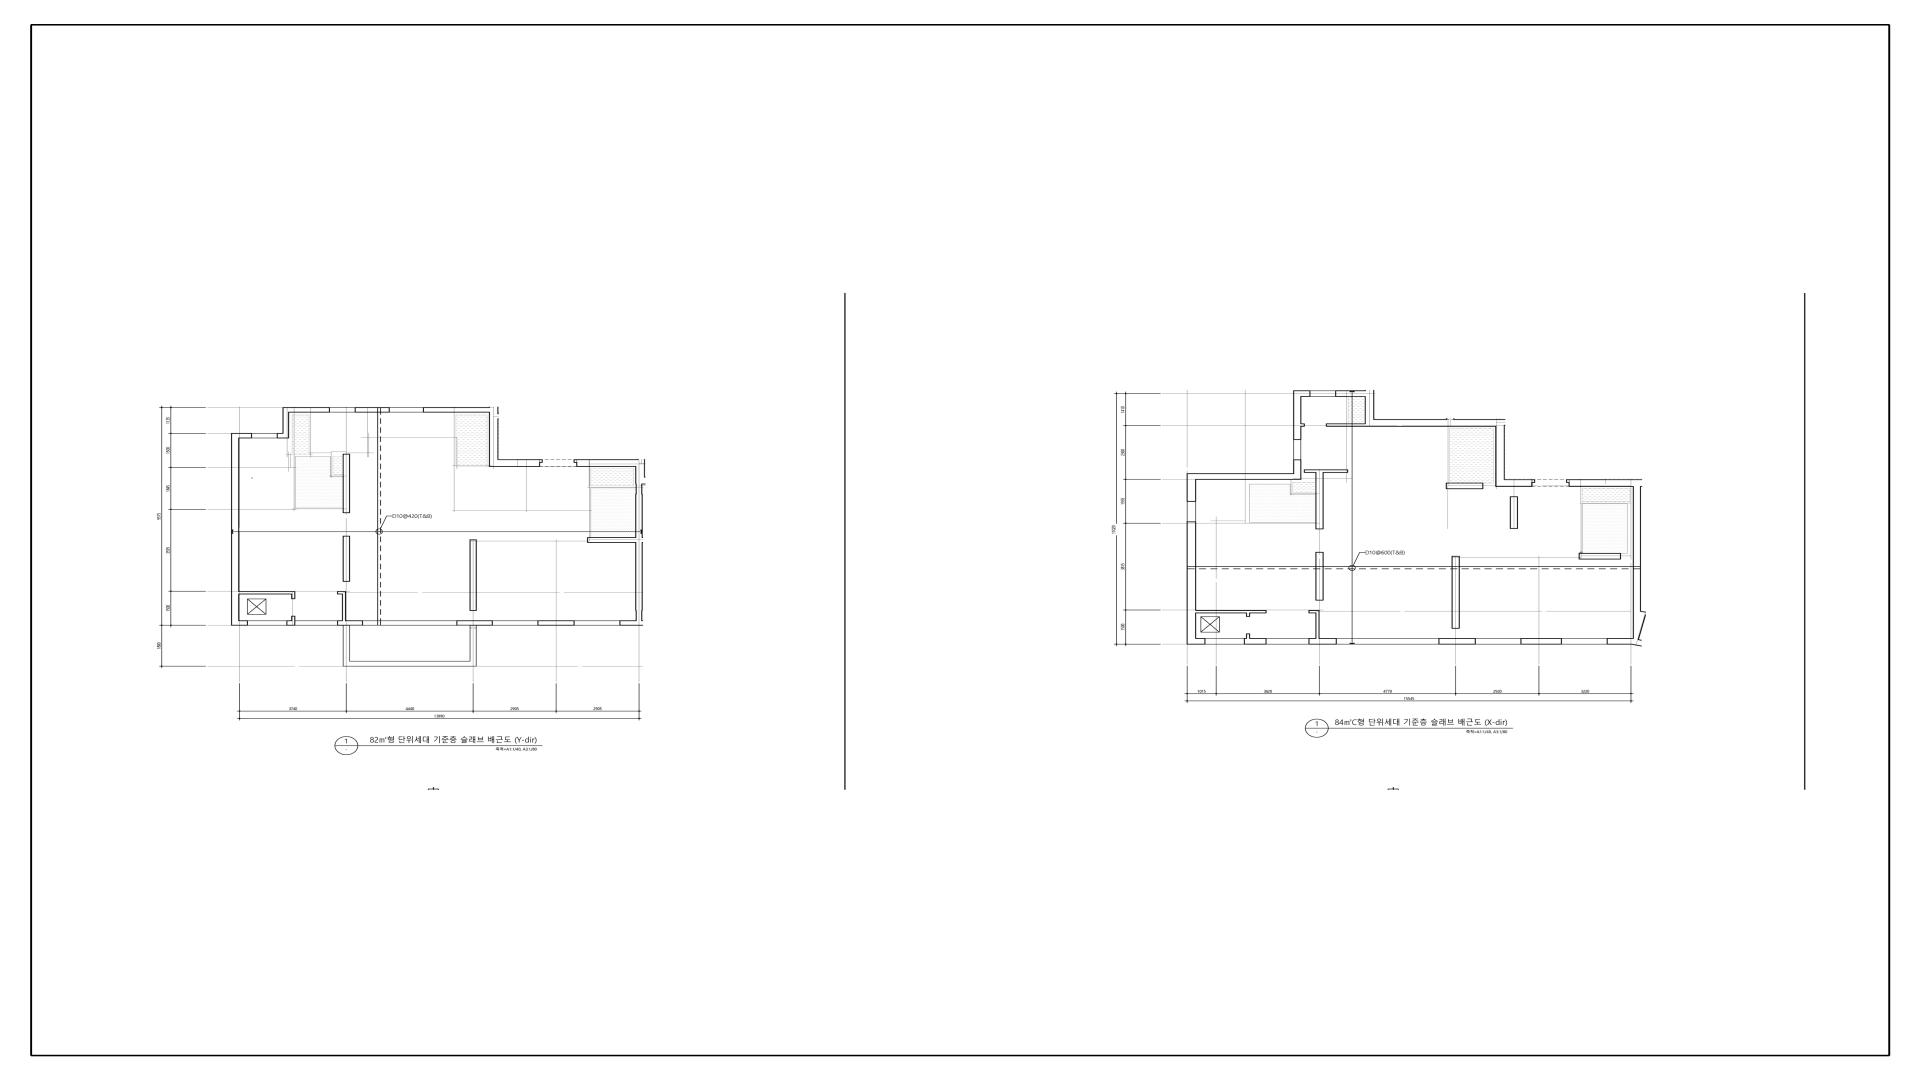wall: (231, 439, 239, 621), (1187, 521, 1196, 638), (1365, 419, 1495, 427), (1633, 487, 1640, 611), (636, 484, 642, 620), (1187, 473, 1294, 480), (1452, 556, 1460, 629), (469, 539, 477, 611), (1495, 419, 1505, 479), (576, 459, 645, 467), (489, 413, 498, 467), (1569, 480, 1642, 487), (343, 454, 351, 513), (1316, 473, 1324, 529), (1633, 611, 1647, 640), (423, 407, 498, 413), (1316, 553, 1324, 600), (1294, 397, 1302, 440), (498, 459, 541, 467), (587, 537, 636, 543), (343, 535, 349, 582), (1606, 638, 1642, 646), (1578, 553, 1621, 559), (1520, 638, 1561, 645), (1365, 390, 1374, 419), (1510, 496, 1518, 529), (1445, 483, 1484, 489), (1439, 638, 1476, 645), (1495, 480, 1532, 487), (289, 407, 330, 413), (239, 591, 291, 595), (1187, 480, 1196, 502), (456, 621, 493, 626), (1308, 638, 1337, 645), (1336, 390, 1365, 397), (355, 407, 390, 413), (1196, 611, 1267, 613), (1304, 469, 1348, 473), (1294, 459, 1302, 480), (282, 407, 289, 433), (636, 467, 645, 484), (1244, 638, 1267, 645), (1325, 423, 1365, 427), (538, 621, 575, 625), (231, 433, 252, 439), (620, 621, 644, 626), (1187, 638, 1205, 645), (1294, 390, 1311, 397), (338, 621, 363, 625), (342, 595, 345, 620), (1316, 613, 1320, 638), (231, 621, 248, 626), (277, 433, 289, 438), (286, 621, 295, 626), (338, 591, 345, 595), (291, 591, 295, 599), (1308, 611, 1320, 613), (1246, 633, 1250, 638), (291, 616, 295, 620), (1302, 423, 1305, 427), (1246, 613, 1250, 617), (541, 459, 543, 463), (574, 459, 576, 463), (1567, 480, 1569, 483), (1532, 480, 1535, 483)
